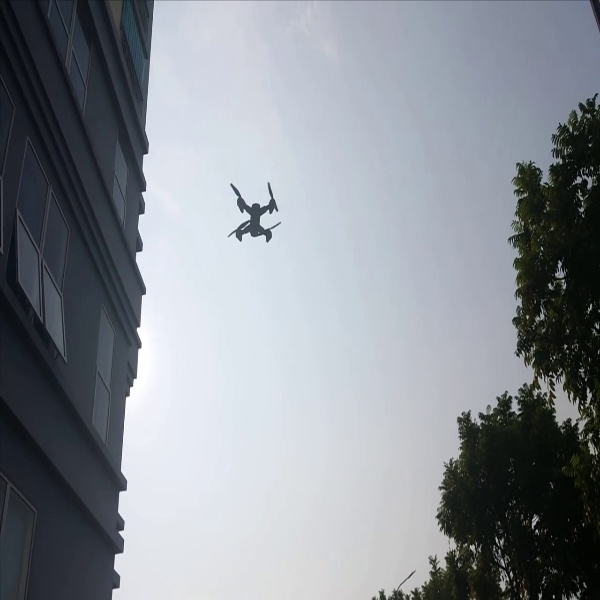drone: (208, 173, 290, 251)
